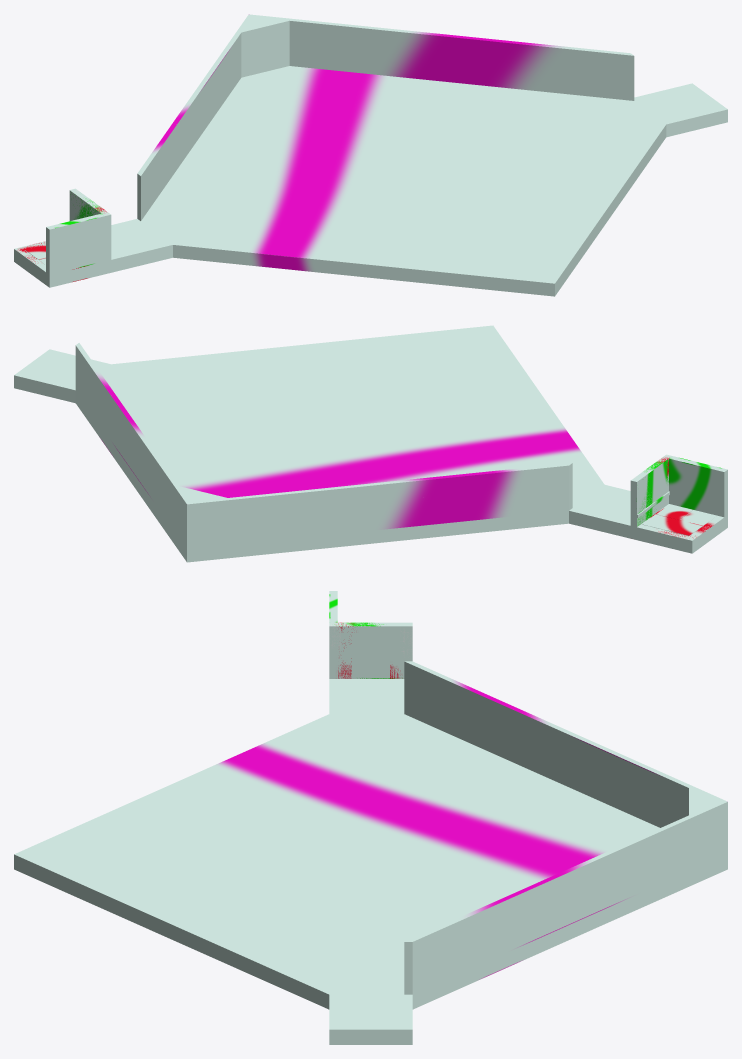
File: LevelGeometry1.fbx
3 renders of one model, top to bottom at view 1: azimuth 30°, elevation 25°; view 2: azimuth 150°, elevation 25°; view 3: azimuth 270°, elevation 25°, orthographic. The views are drawn at different scales.
Visible parts, largest first — view 1: PuzzleFloor, PuzzleWall, Wall4, Floor1, Floor3, Wall1; view 2: PuzzleFloor, PuzzleWall, Wall4, Floor3, Floor1, Wall1, Wall2; view 3: PuzzleFloor, PuzzleWall, Wall1, Wall2, Wall4.
Boxes of the visible parts, x1,y1,x2,y2 form: PuzzleFloor: (111,66,727,296); PuzzleWall: (137,14,634,220); Wall4: (46,192,110,274); Floor1: (14,241,111,287); Floor3: (14,241,111,286); Wall1: (69,189,111,260); PuzzleFloor: (14,325,630,562); PuzzleWall: (75,343,572,549); Wall4: (630,455,727,525); Floor3: (630,504,727,552); Floor1: (630,505,727,553); Wall1: (630,454,670,526); Wall2: (630,476,669,526); PuzzleFloor: (14,679,727,1044); PuzzleWall: (404,661,727,994); Wall1: (329,622,412,678); Wall2: (329,626,412,678); Wall4: (329,591,412,678).
Size of the model in its own units: 11 by 8.6 by 0.9011.
